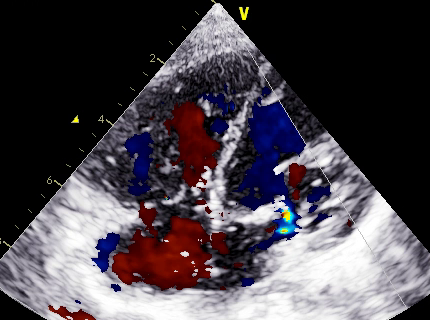MR: (227, 194, 301, 236)
